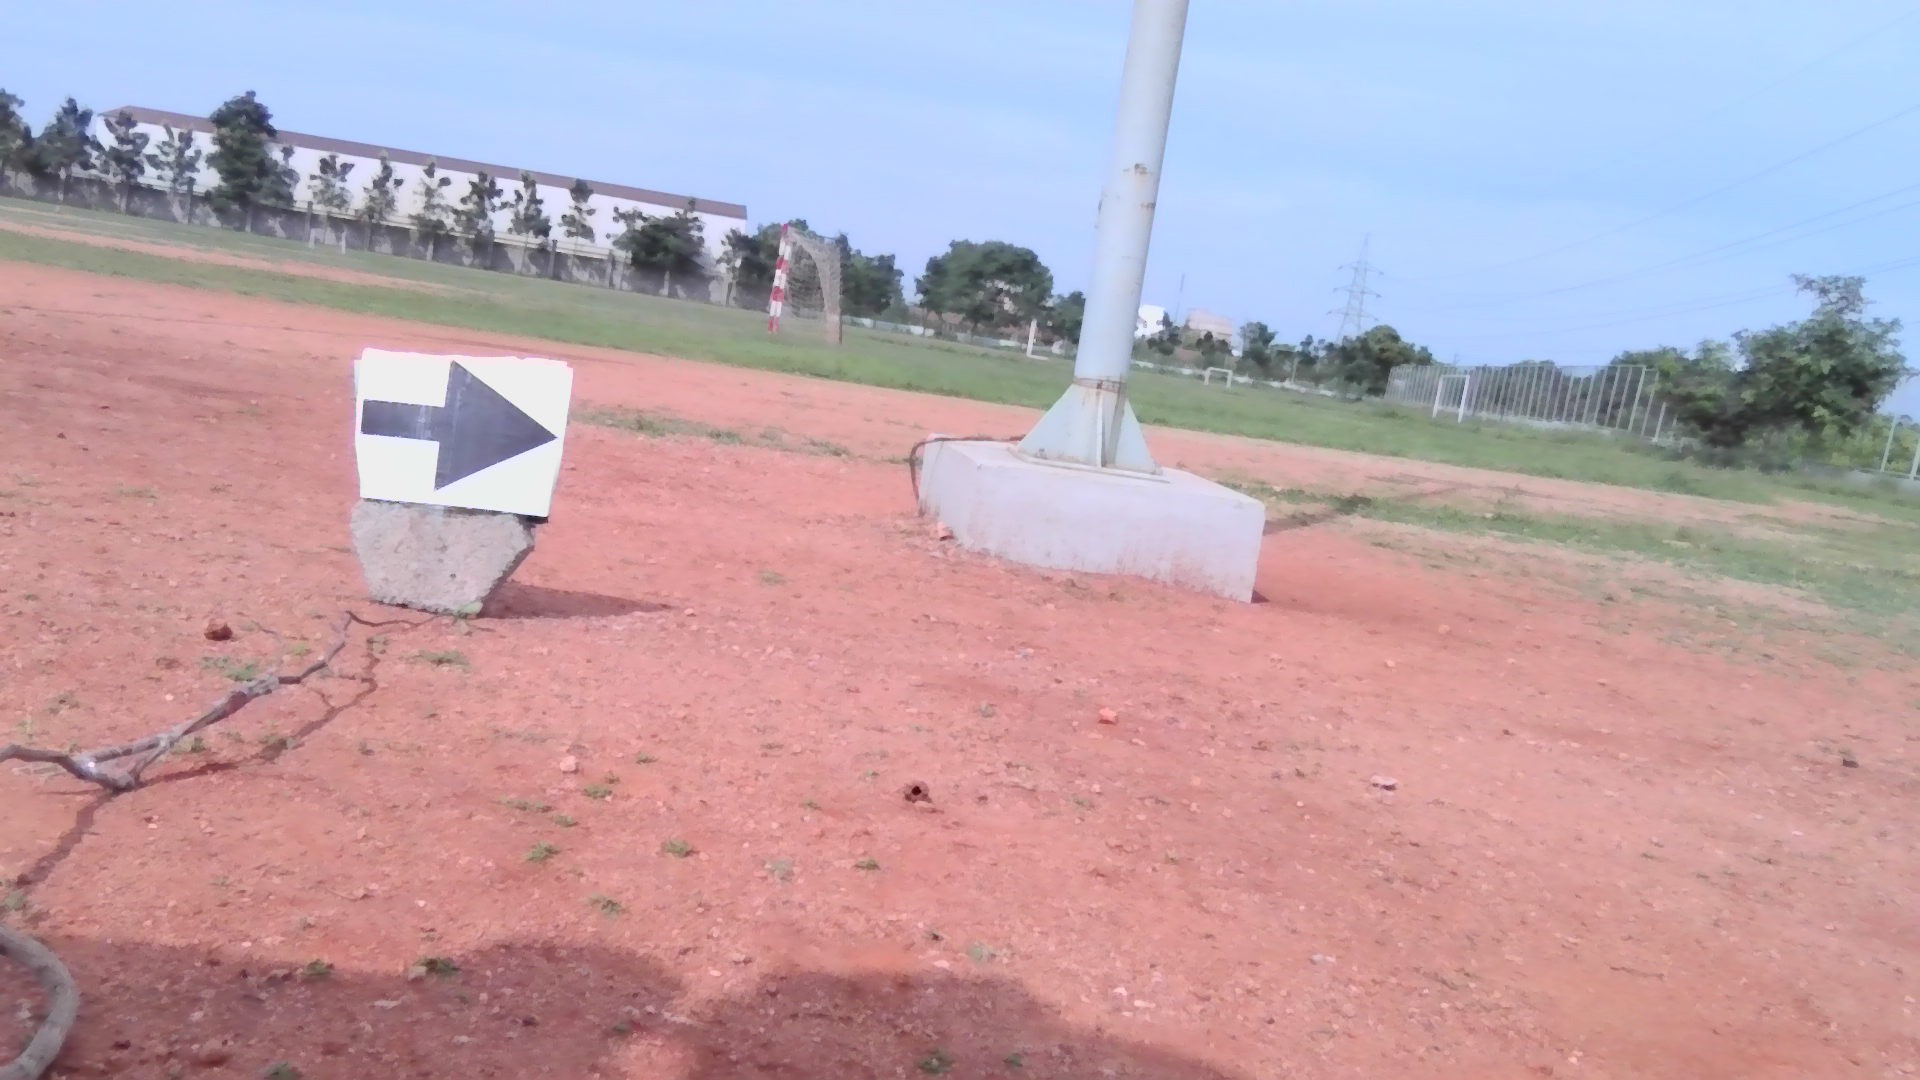leftDir: (343, 357, 578, 512)
